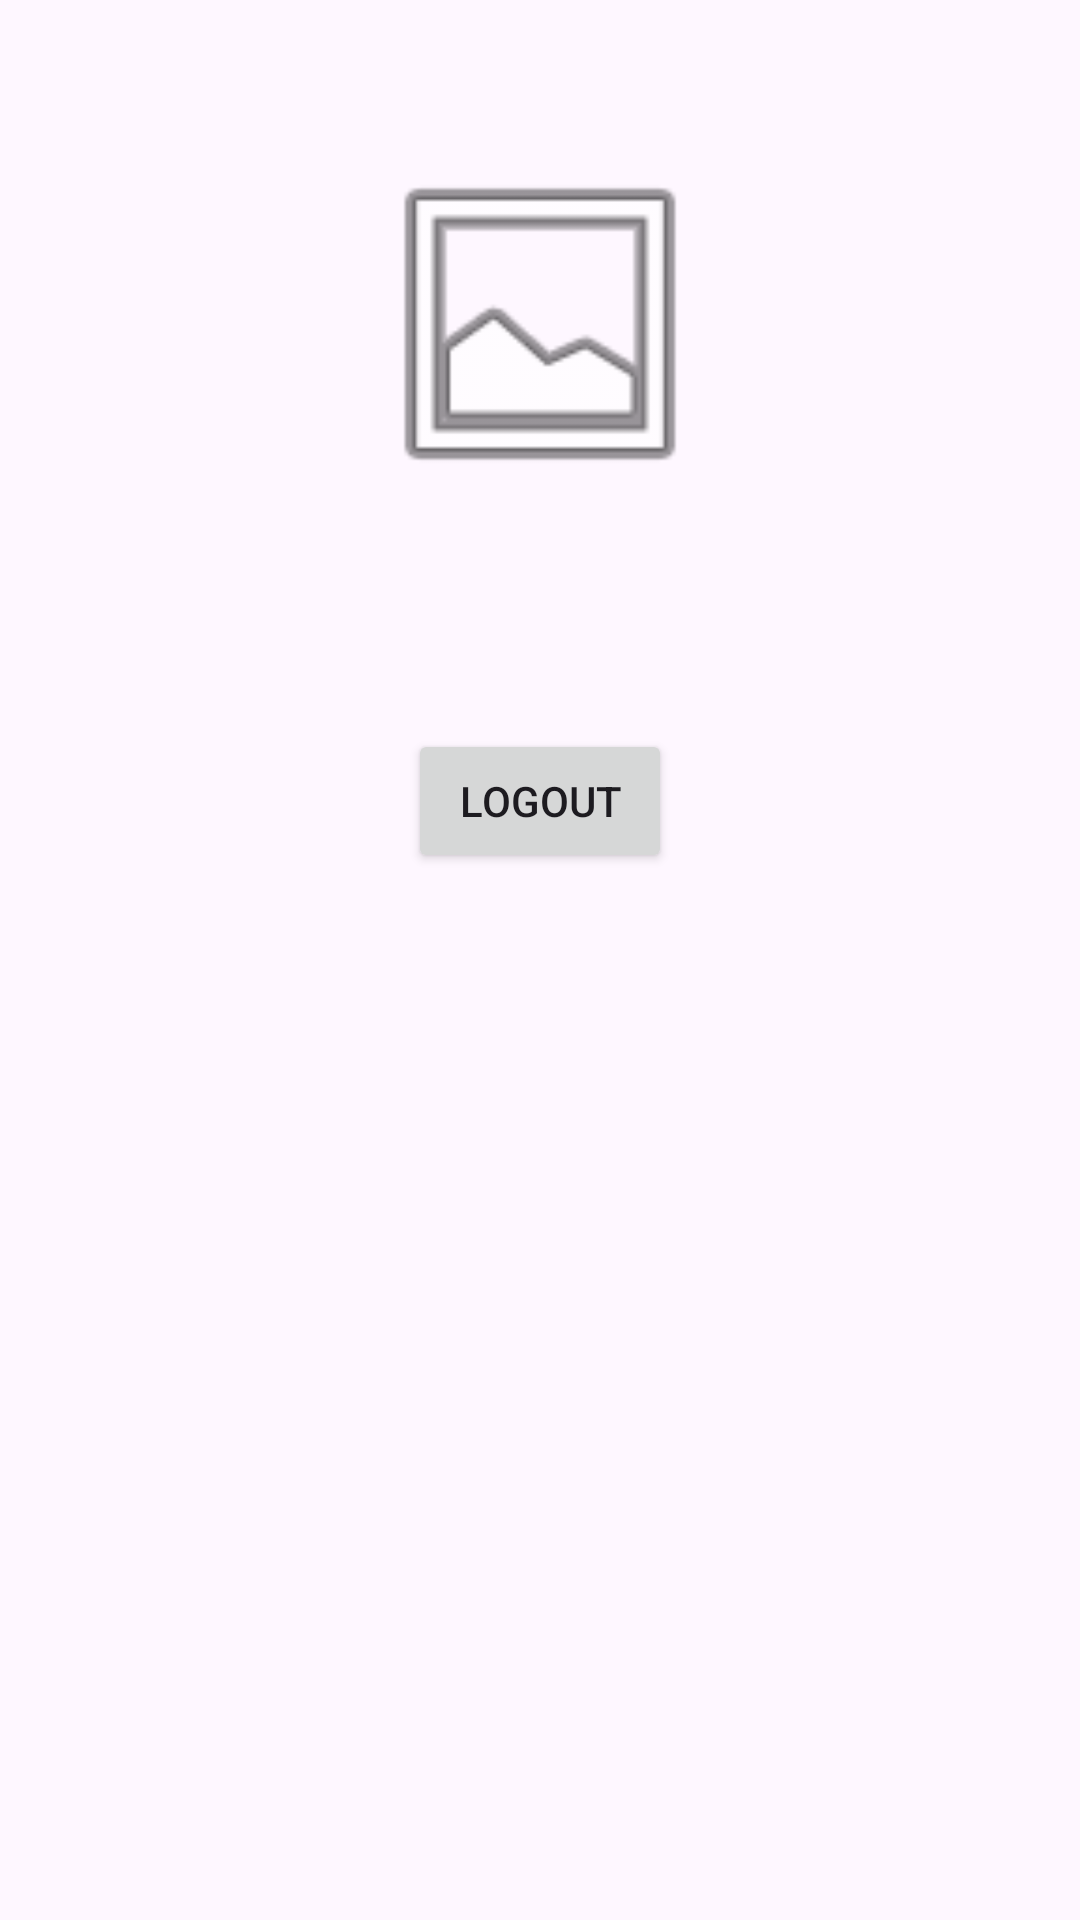

Icons on this 1080 x 1920 Android screen, each with its box as (x1, y1, x2, y2):
gallery: (404, 188, 676, 460)
